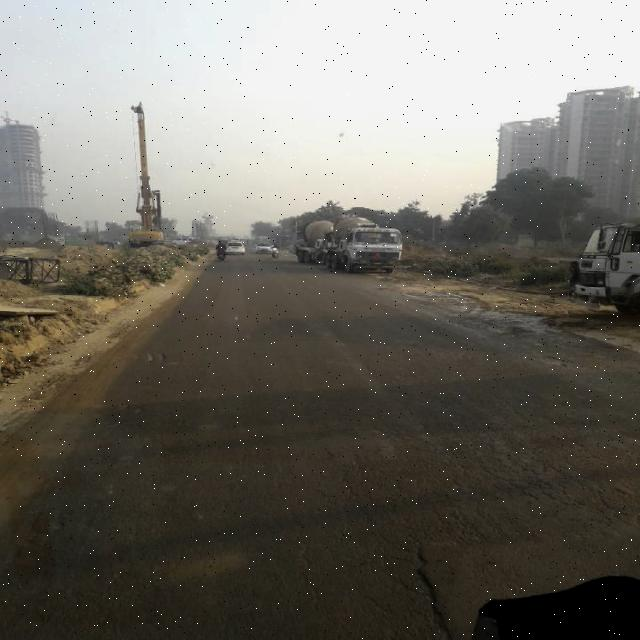D20: (63, 376, 639, 637)
